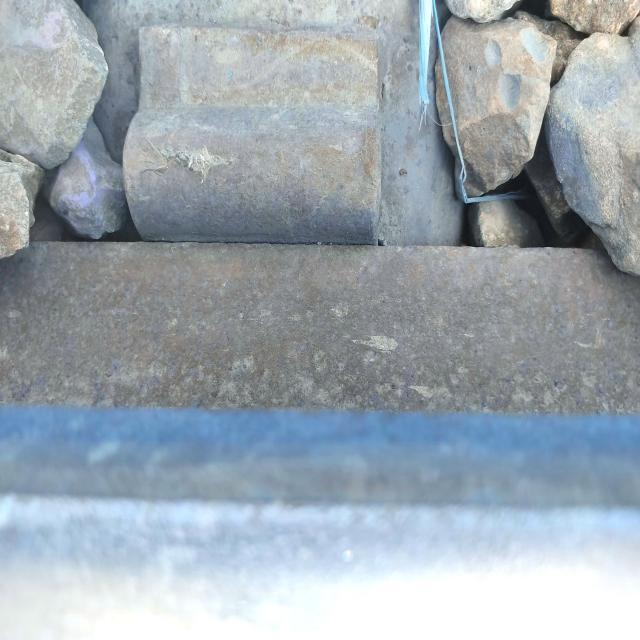Missing Fastener: (100, 25, 414, 263)
